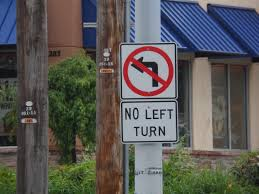No_left_turn: (123, 46, 174, 96)
